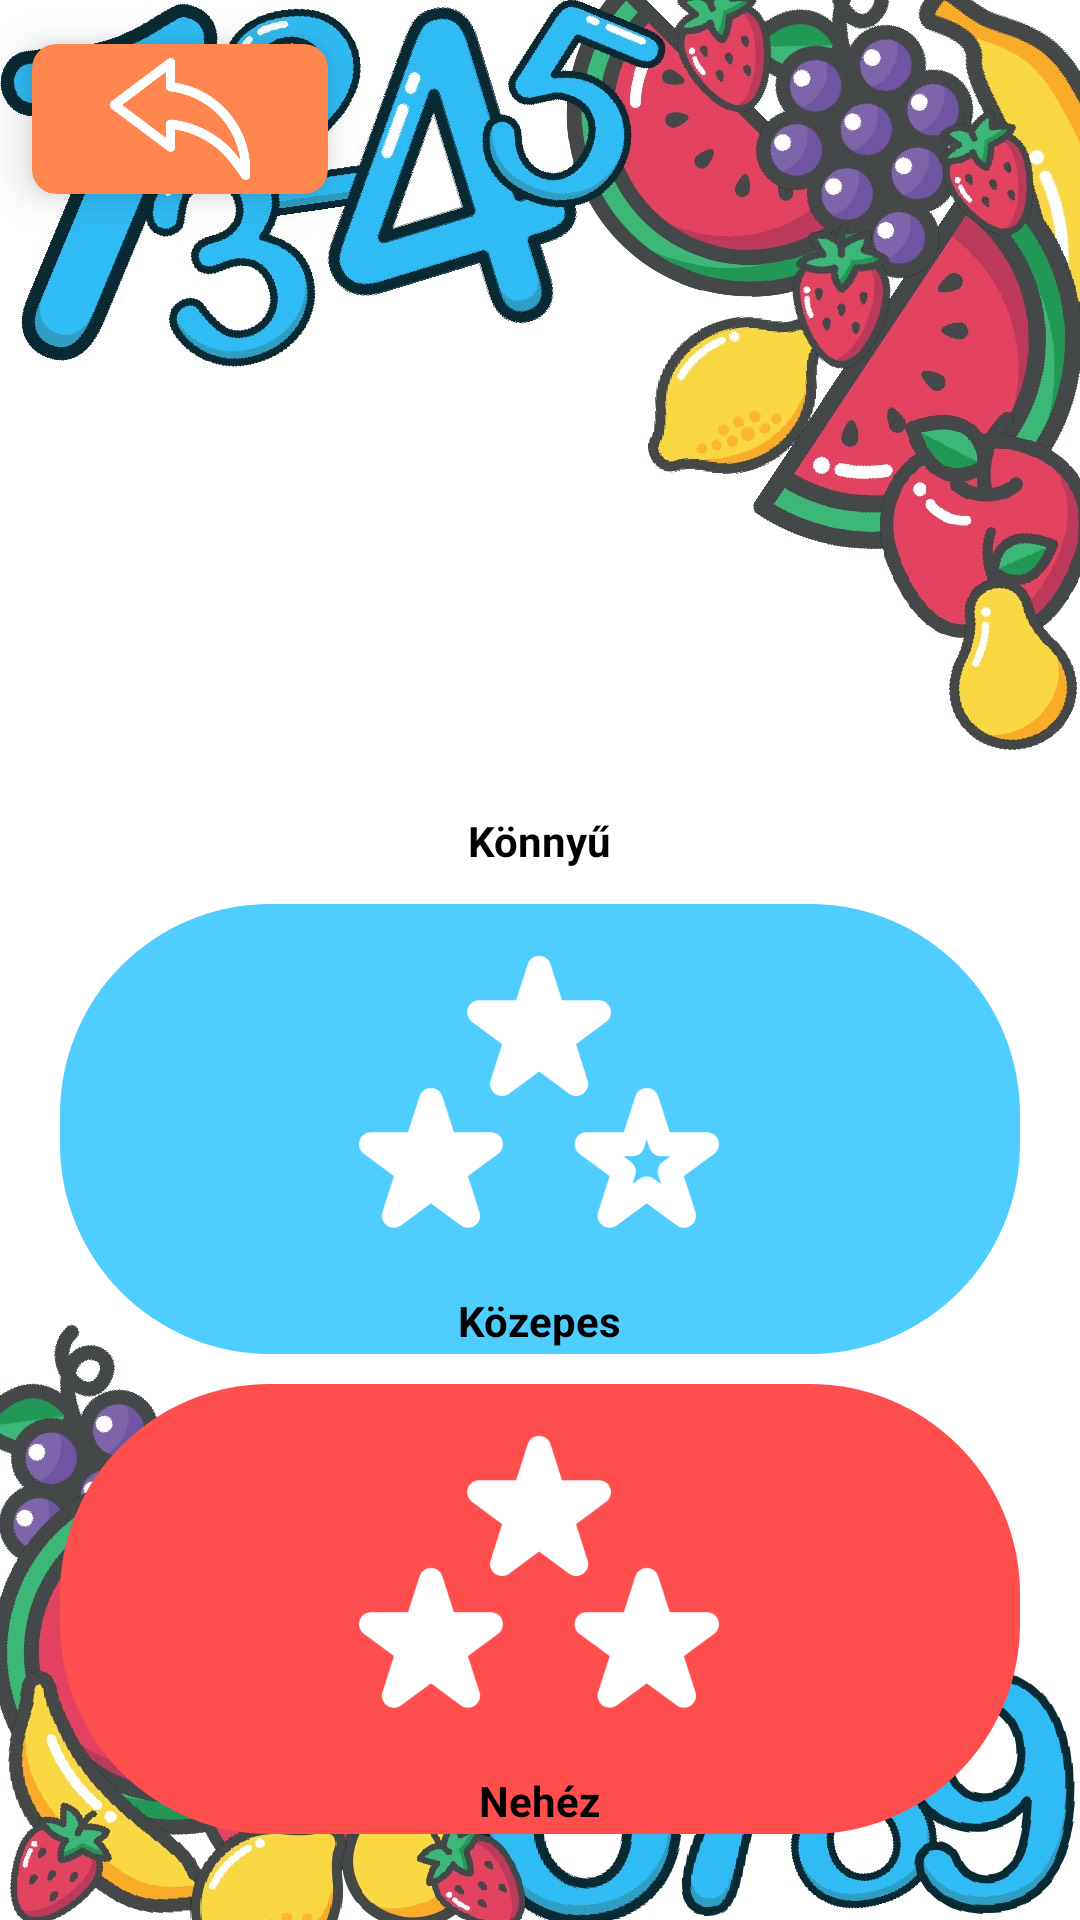

Where to tap for icons on this 1080 x 1920 app screen, as (x=x, y=y):
back: (x=180, y=119)
